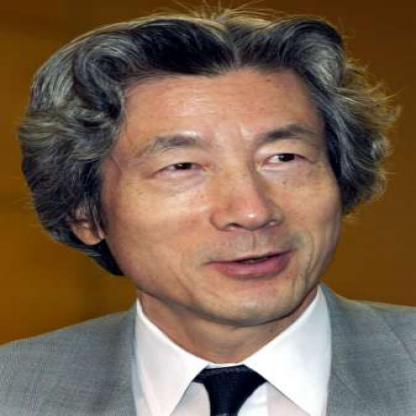face: (90, 39, 353, 330)
